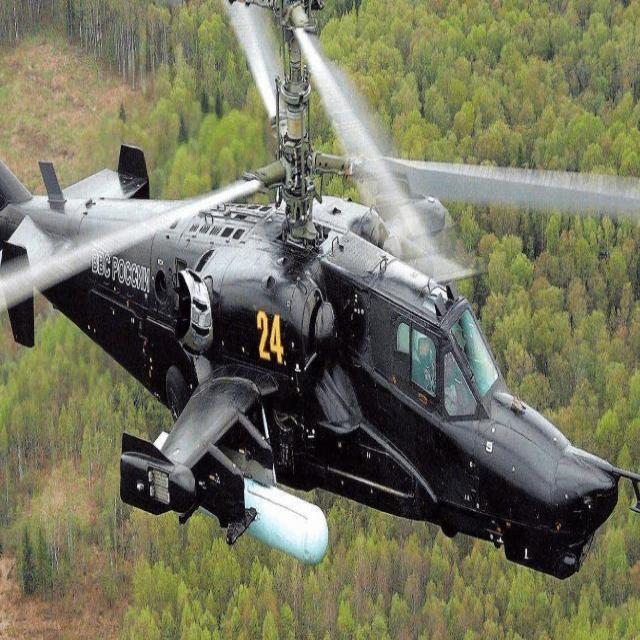MIL_HELO: (0, 0, 640, 573)
